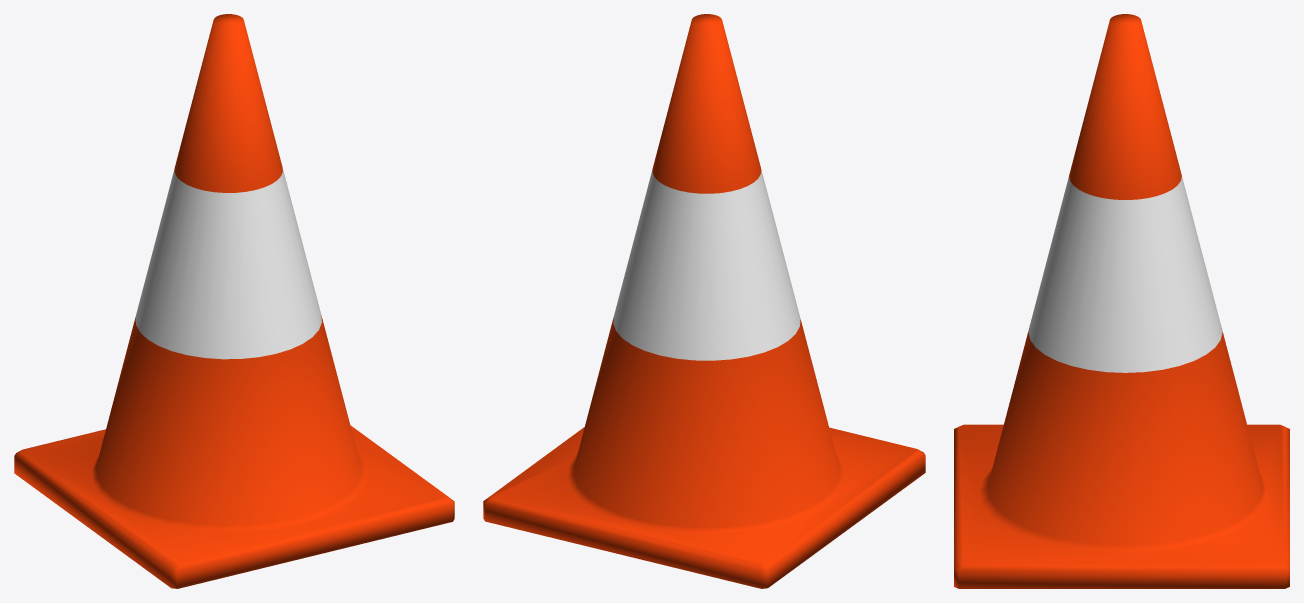
File: Trafic Cone.FBX
3 views of the same model, side by side, from view 1: azimuth 30°, elevation 25°; view 2: azimuth 150°, elevation 25°; view 3: azimuth 270°, elevation 25° (orthographic). The views are drawn at different scales.
Visible parts, largest first — view 1: Box001; view 2: Box001; view 3: Box001.
Boxes of the visible parts, x1,y1,x2,y2 form: Box001: (14, 14, 454, 588); Box001: (483, 14, 925, 588); Box001: (954, 14, 1289, 588).
Size of the model in its own units: 16.65 by 26.71 by 16.44.
